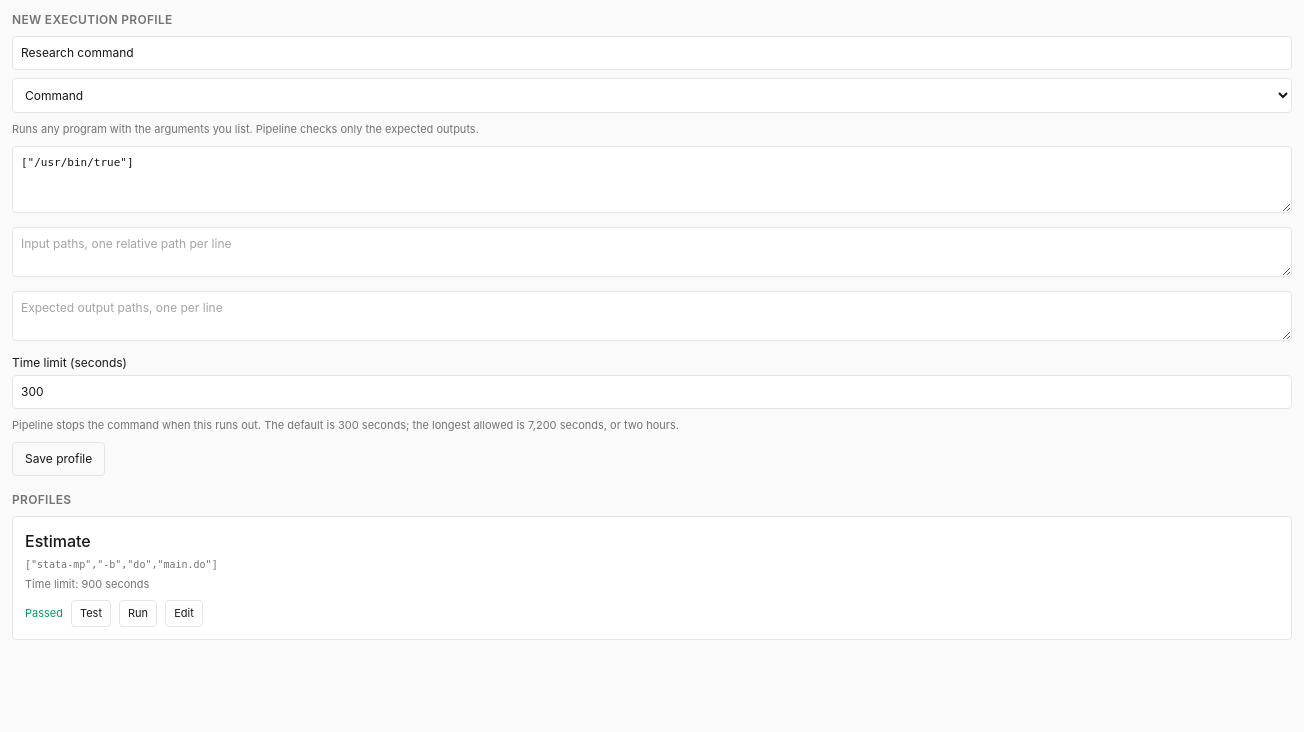
Test: edits a saved profile in place and keeps what the form does not show
expect the text "Time limit: 900 seconds" is shown: met, box left=25, top=576, right=149, bottom=590
Click the button "Edit" at (184, 613), box left=165, top=600, right=203, bottom=626
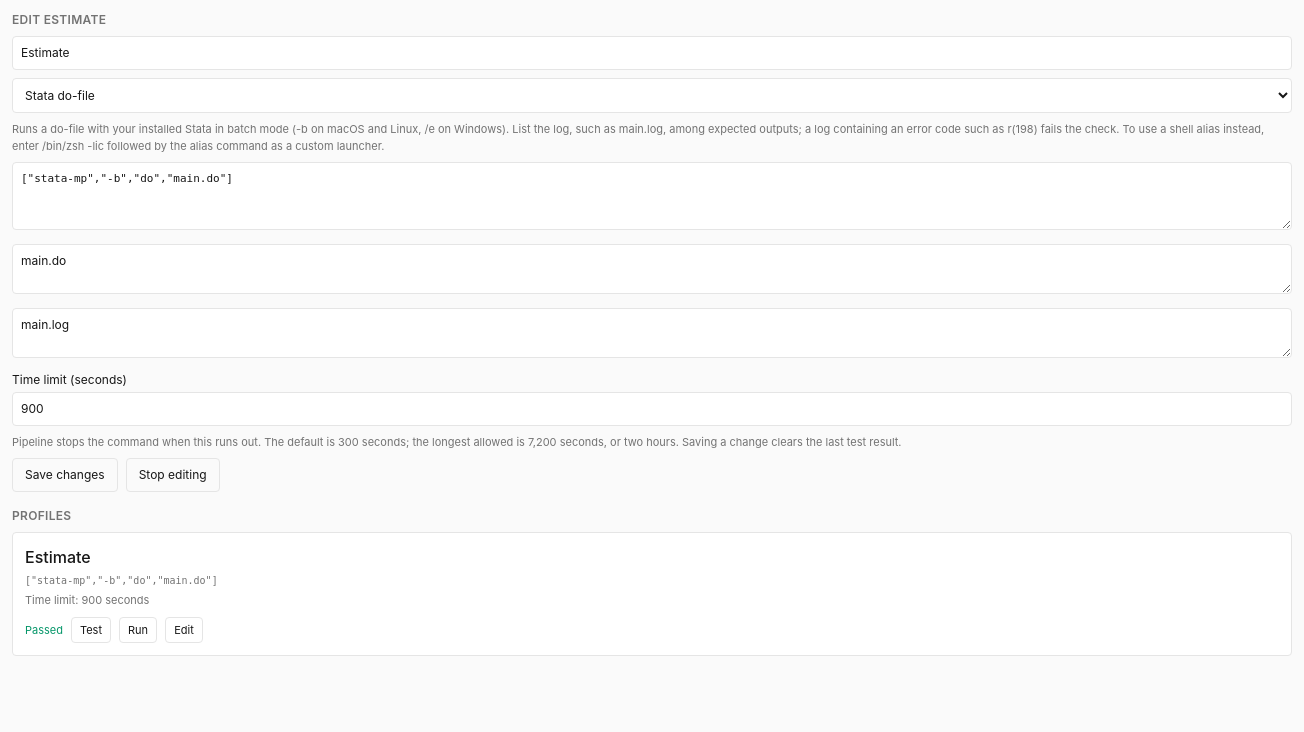
expect the heading "Edit Estimate" is shown: met, box left=12, top=12, right=106, bottom=27
expect the number field labelled "Time limit (seconds)" holds "900": met
Replace the text in the number field labelled "Time limit (seconds)" with "7200" at (652, 408), box left=12, top=392, right=1292, bottom=426
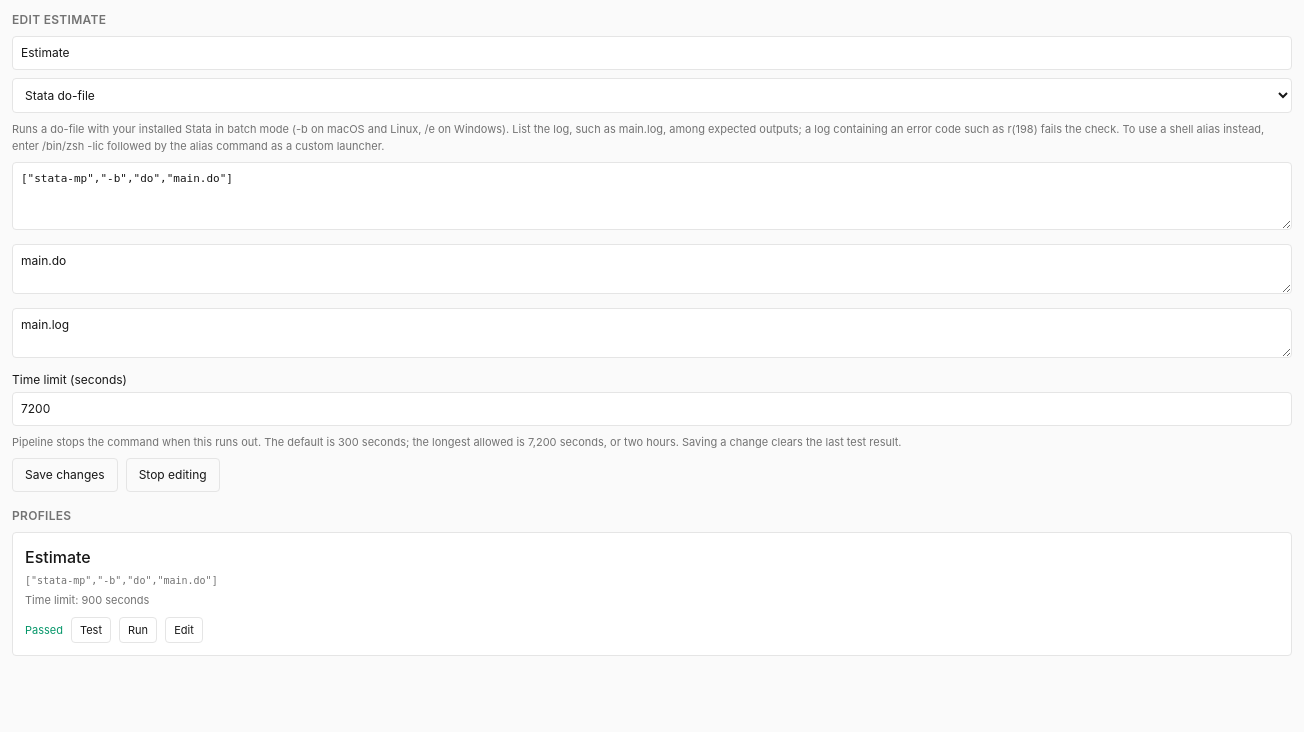
Click the button "Save changes" at (65, 475), box left=12, top=458, right=118, bottom=492
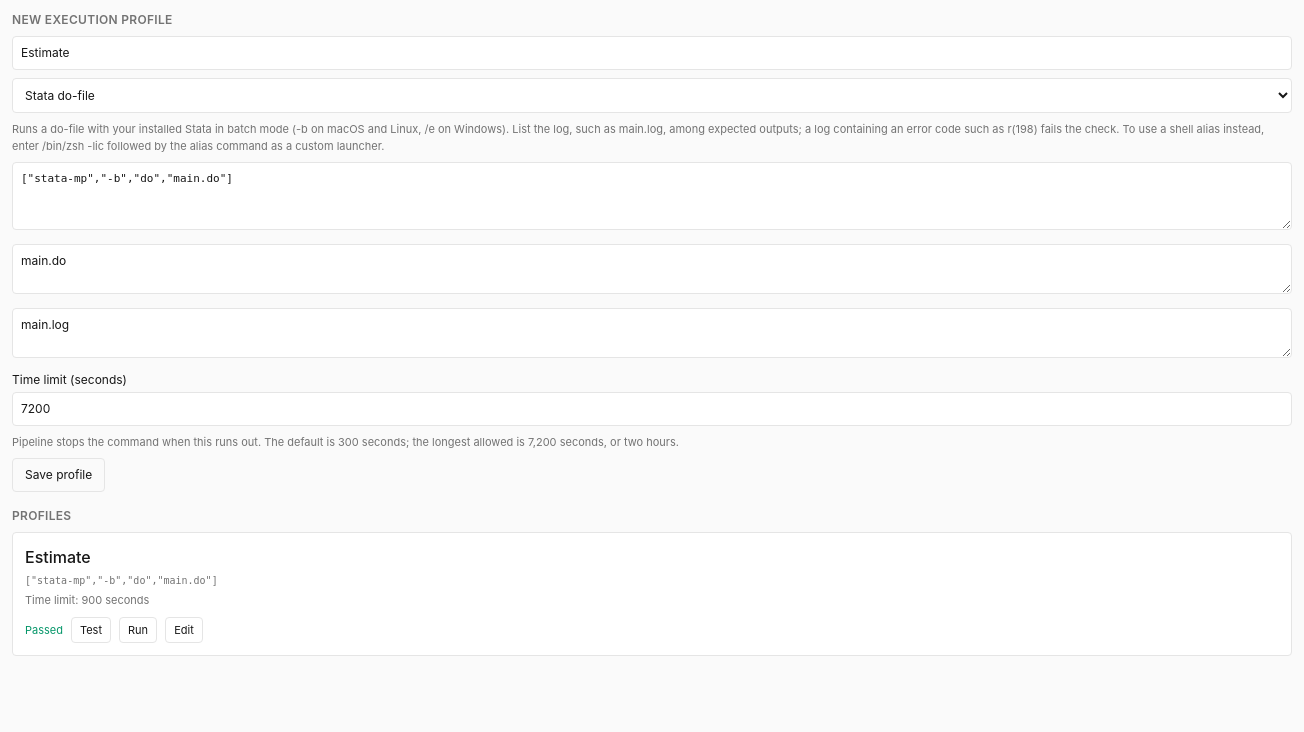
expect the heading "New execution profile" is shown: met, box left=12, top=12, right=173, bottom=27
